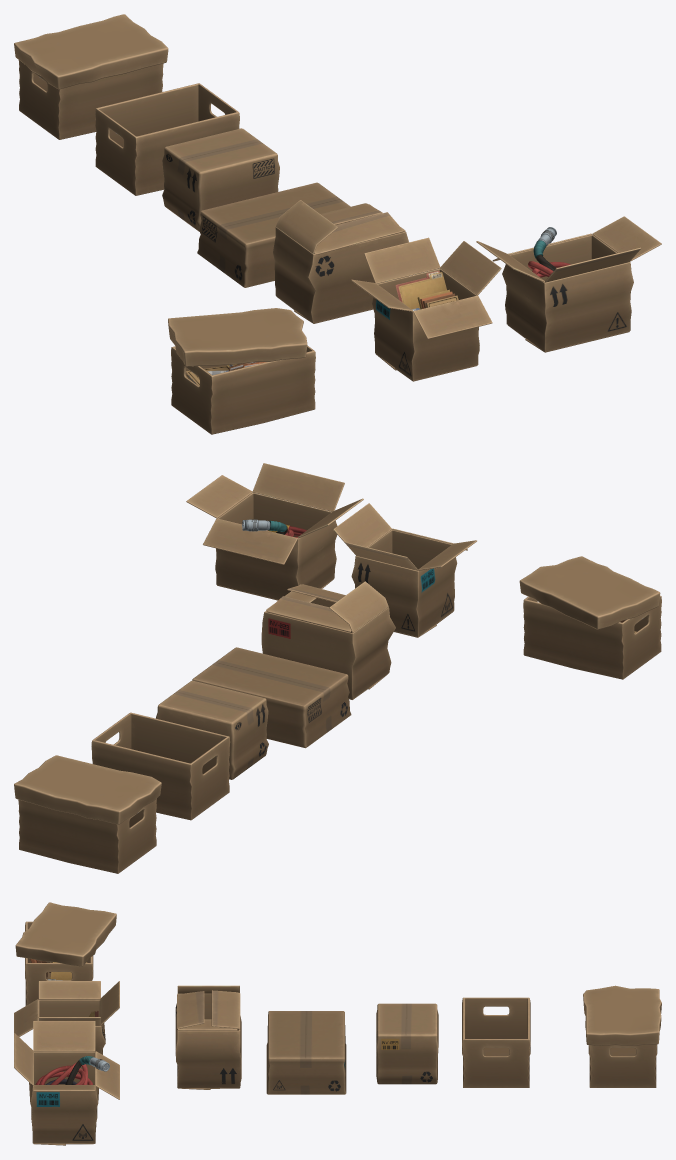
File: Boxes.fbx
3 views of the same model, one above another, from view 1: azimuth 30°, elevation 25°; view 2: azimuth 150°, elevation 25°; view 3: azimuth 270°, elevation 25° (orthographic). The views are drawn at different scales.
Visible parts, largest first — view 1: SM_Box_03, SM_Box_04, SM_Box_07, SM_Box_05, SM_Box_01, SM_Box_06, SM_Box_08, SM_Box_02; view 2: SM_Box_04, SM_Box_03, SM_Box_05, SM_Box_01, SM_Box_07, SM_Box_06, SM_Box_02, SM_Box_08; view 3: SM_Box_04, SM_Box_05, SM_Box_01, SM_Box_02, SM_Box_03, SM_Box_06, SM_Box_08, SM_Box_07.
Part boxes in pixels (x1,y1,x2,y2): SM_Box_03: (168, 308, 315, 434); SM_Box_04: (476, 216, 661, 352); SM_Box_07: (351, 237, 501, 381); SM_Box_05: (14, 14, 168, 139); SM_Box_01: (273, 200, 408, 323); SM_Box_06: (95, 83, 239, 195); SM_Box_08: (162, 128, 279, 231); SM_Box_02: (197, 182, 350, 287); SM_Box_04: (186, 463, 363, 600); SM_Box_03: (519, 556, 661, 679); SM_Box_05: (14, 755, 161, 873); SM_Box_01: (261, 581, 395, 699); SM_Box_07: (333, 503, 476, 637); SM_Box_06: (91, 712, 230, 820); SM_Box_02: (192, 647, 351, 748); SM_Box_08: (156, 680, 268, 779); SM_Box_04: (14, 1021, 119, 1145); SM_Box_05: (583, 985, 661, 1087); SM_Box_01: (175, 985, 241, 1089); SM_Box_02: (266, 1011, 346, 1094); SM_Box_03: (15, 902, 116, 1005); SM_Box_06: (462, 997, 530, 1087); SM_Box_08: (376, 1003, 438, 1084); SM_Box_07: (14, 981, 119, 1054).
Bounding box in the file's own units: 179 × 34.56 × 259.
